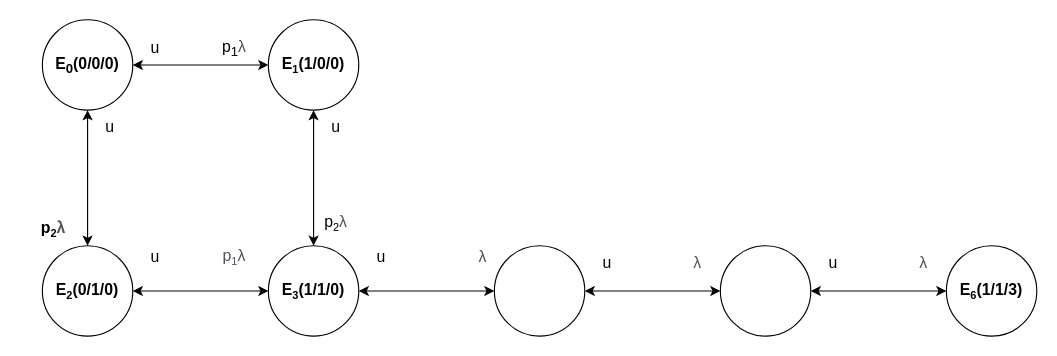
Some shapes in this 1057 by 356 pixel diagram are drawn without their labels. The box of each missing label's shape, as (x1, y1, x2, y2) in pixels:
E 4 (1/1/1): (493, 245, 585, 336)
E 5 (1/1/2): (719, 245, 811, 336)
